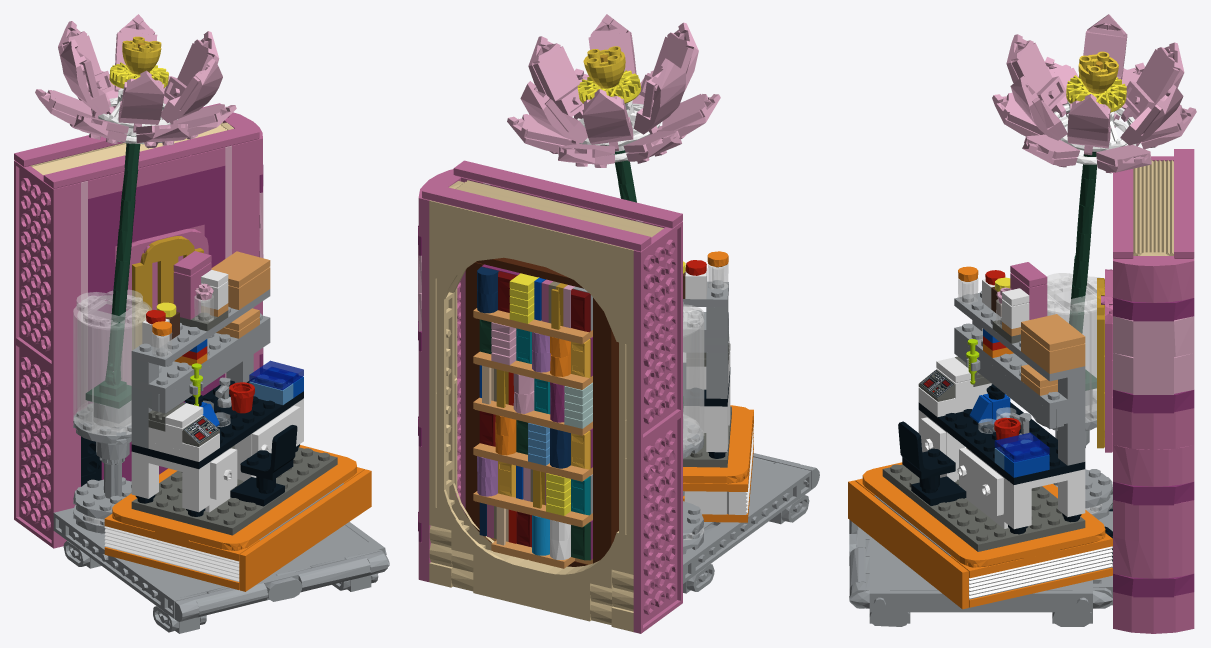
The model's file is bookend-michelle.glb.
The picture shows the model from 3 angles, left to right: view 1: azimuth 30°, elevation 25°; view 2: azimuth 150°, elevation 25°; view 3: azimuth 270°, elevation 25°; orthographic projection. The views are drawn at different scales.
Parts seen in each view (by area): view 1: bookend-michelle; view 2: bookend-michelle; view 3: bookend-michelle.
Boxes of the visible parts, x1,y1,x2,y2 form: bookend-michelle: (14,14,389,633); bookend-michelle: (418,14,819,633); bookend-michelle: (848,14,1196,633).
Bounding box in the file's own units: 0.1163 × 0.2273 × 0.1375.
